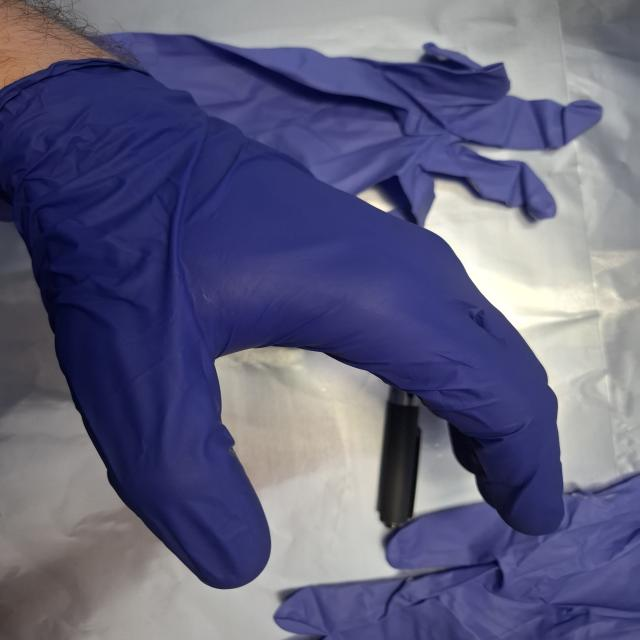glove_on: (0, 56, 572, 578)
